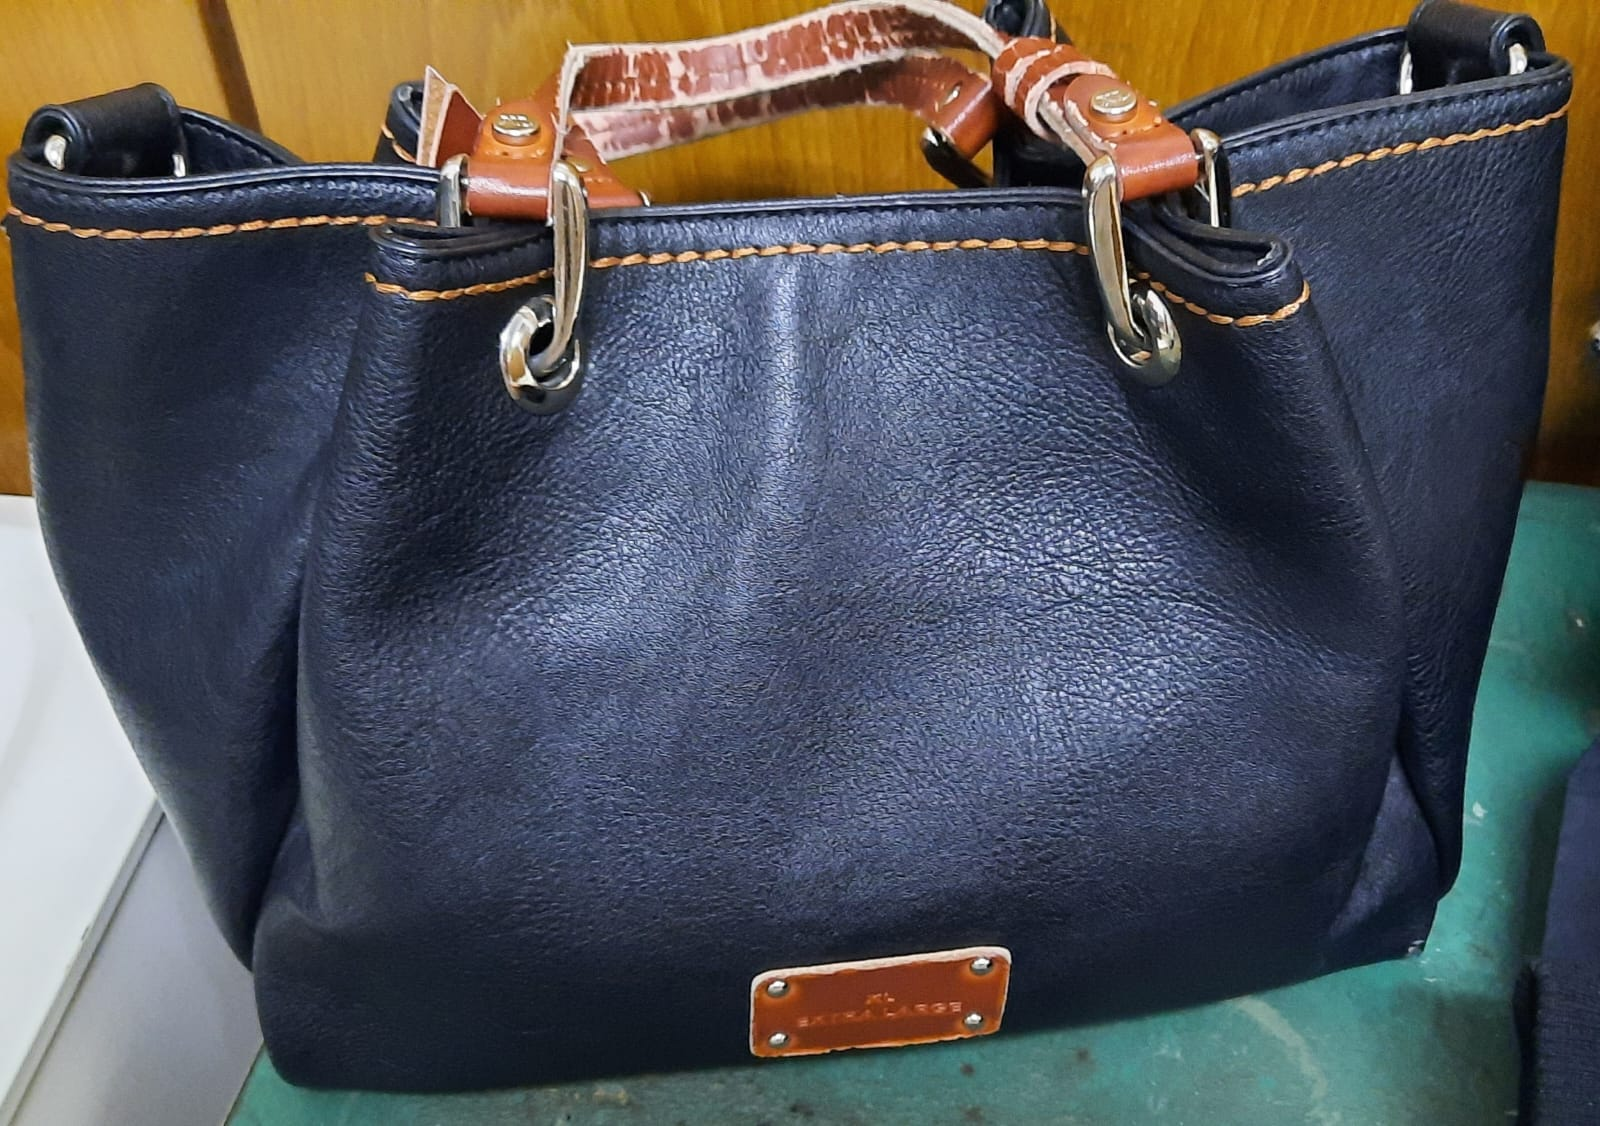cartera: (13, 48, 1552, 1068)
cuero: (624, 496, 1262, 853)
